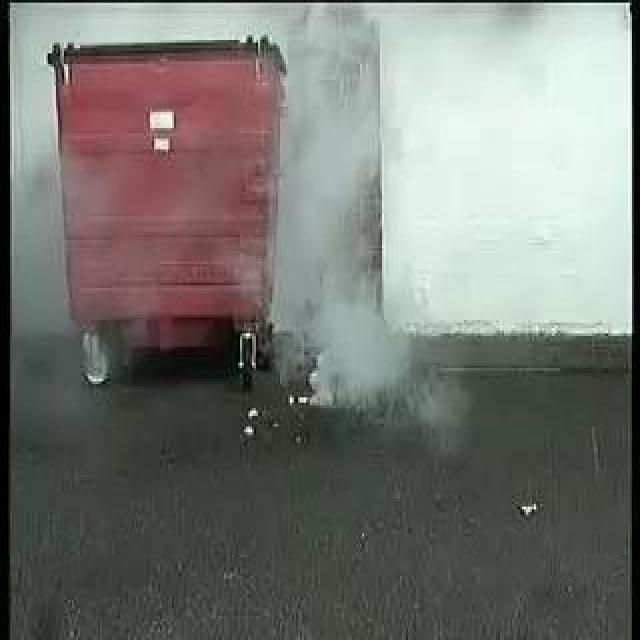Smoke: (277, 65, 405, 423)
